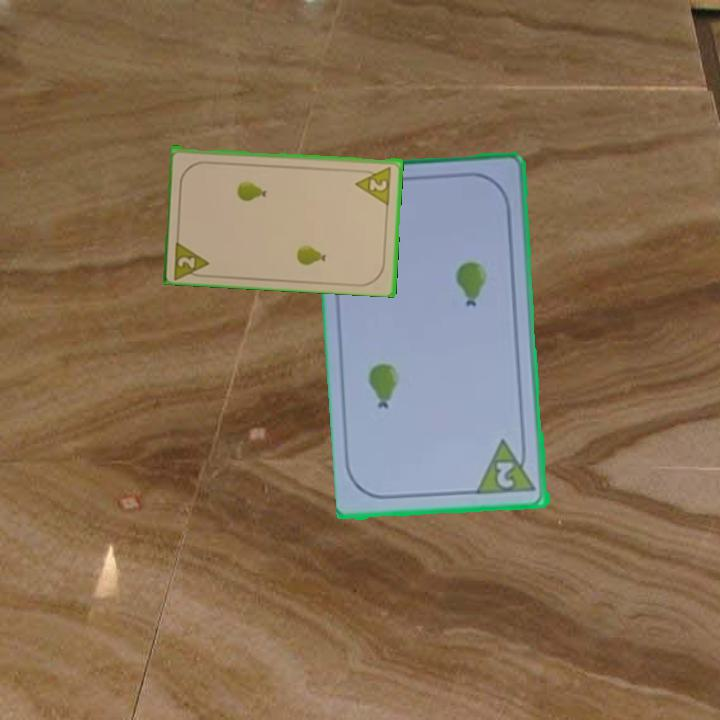2p: (170, 235, 212, 280), (353, 162, 394, 206), (493, 458, 518, 492)
